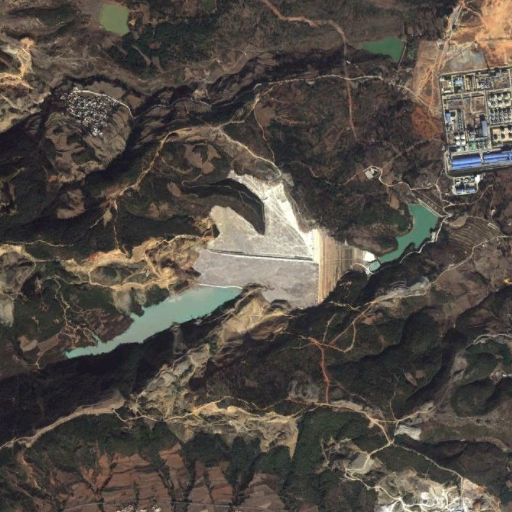tp: (67, 168, 364, 358)
